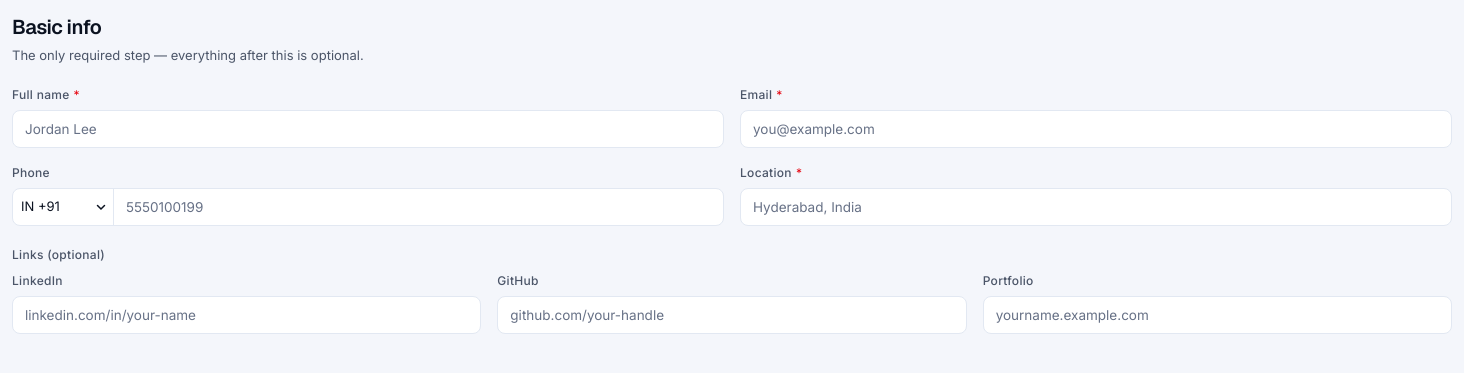
Test: BasicInfoForm › validation on blur › flags a malformed email once blurred, and clears once fixed
Type "not-an-email" into the field labelled "Email".
click(1096, 129); type("not-an-email")  # box [740,110,1452,148]
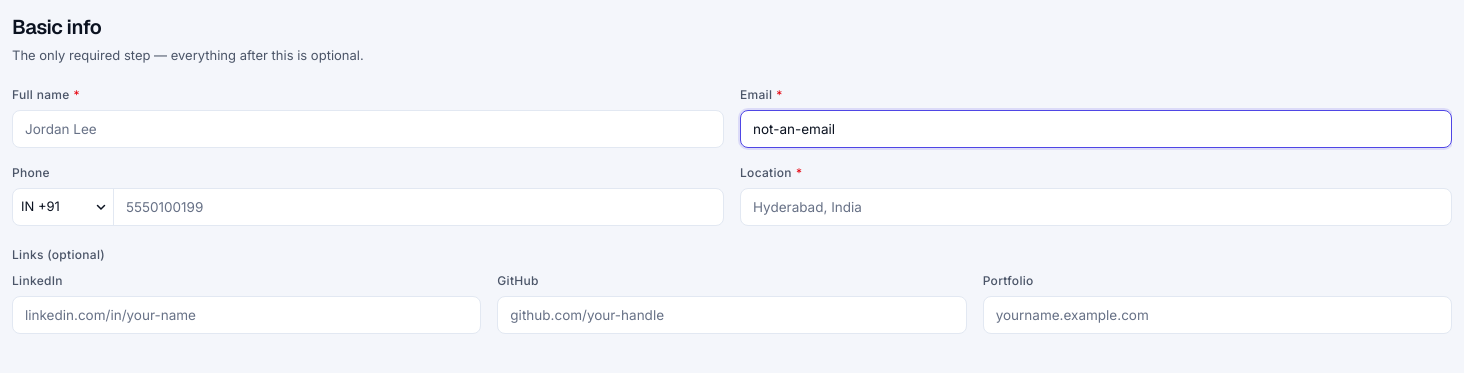
Press Tab
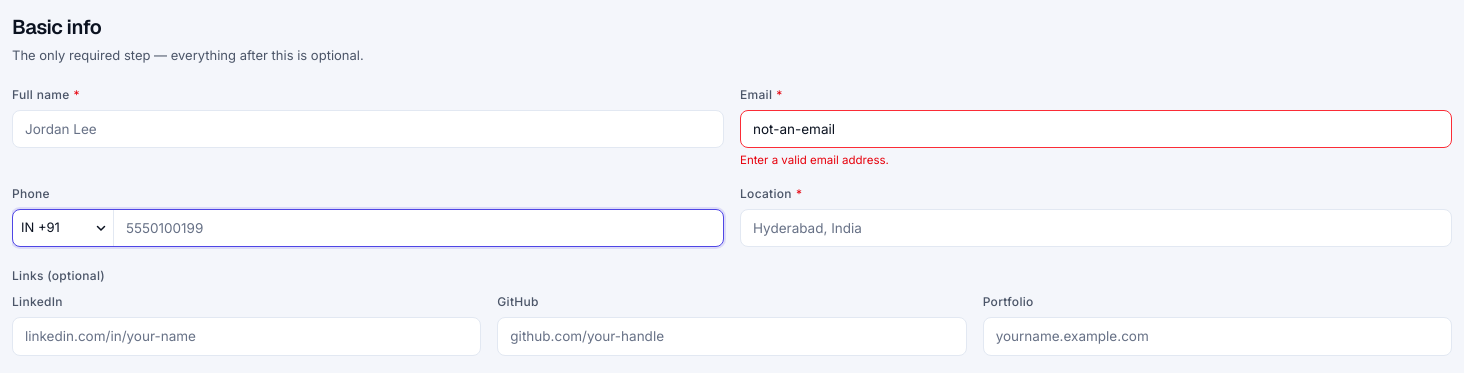
Expected: the text "Enter a valid email address." is shown, [740,153,889,167]
Type "@example.com" into the field labelled "Email".
click(1096, 129); type("@example.com")  # box [740,110,1452,148]
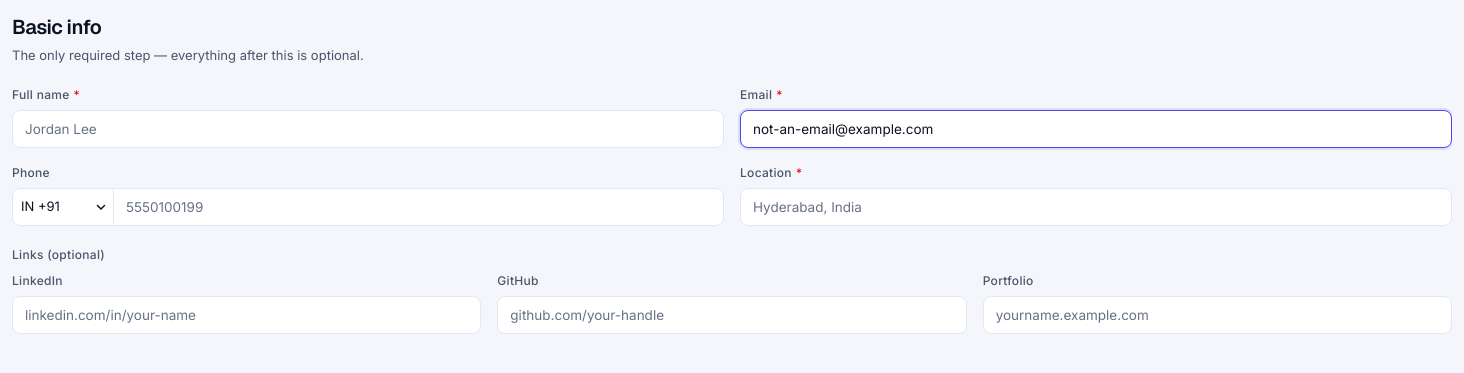
Expected: the text "Enter a valid email address." is gone
